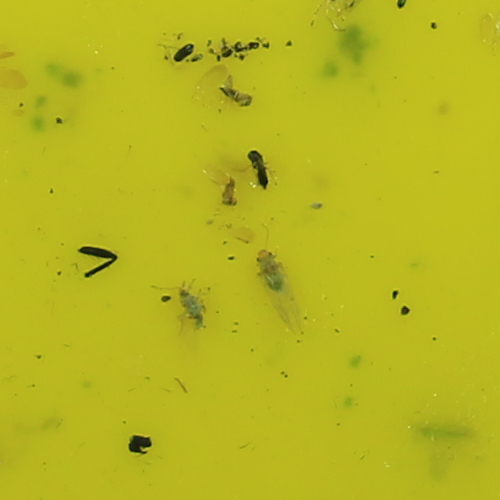Glycaspis: (254, 245, 288, 291)
